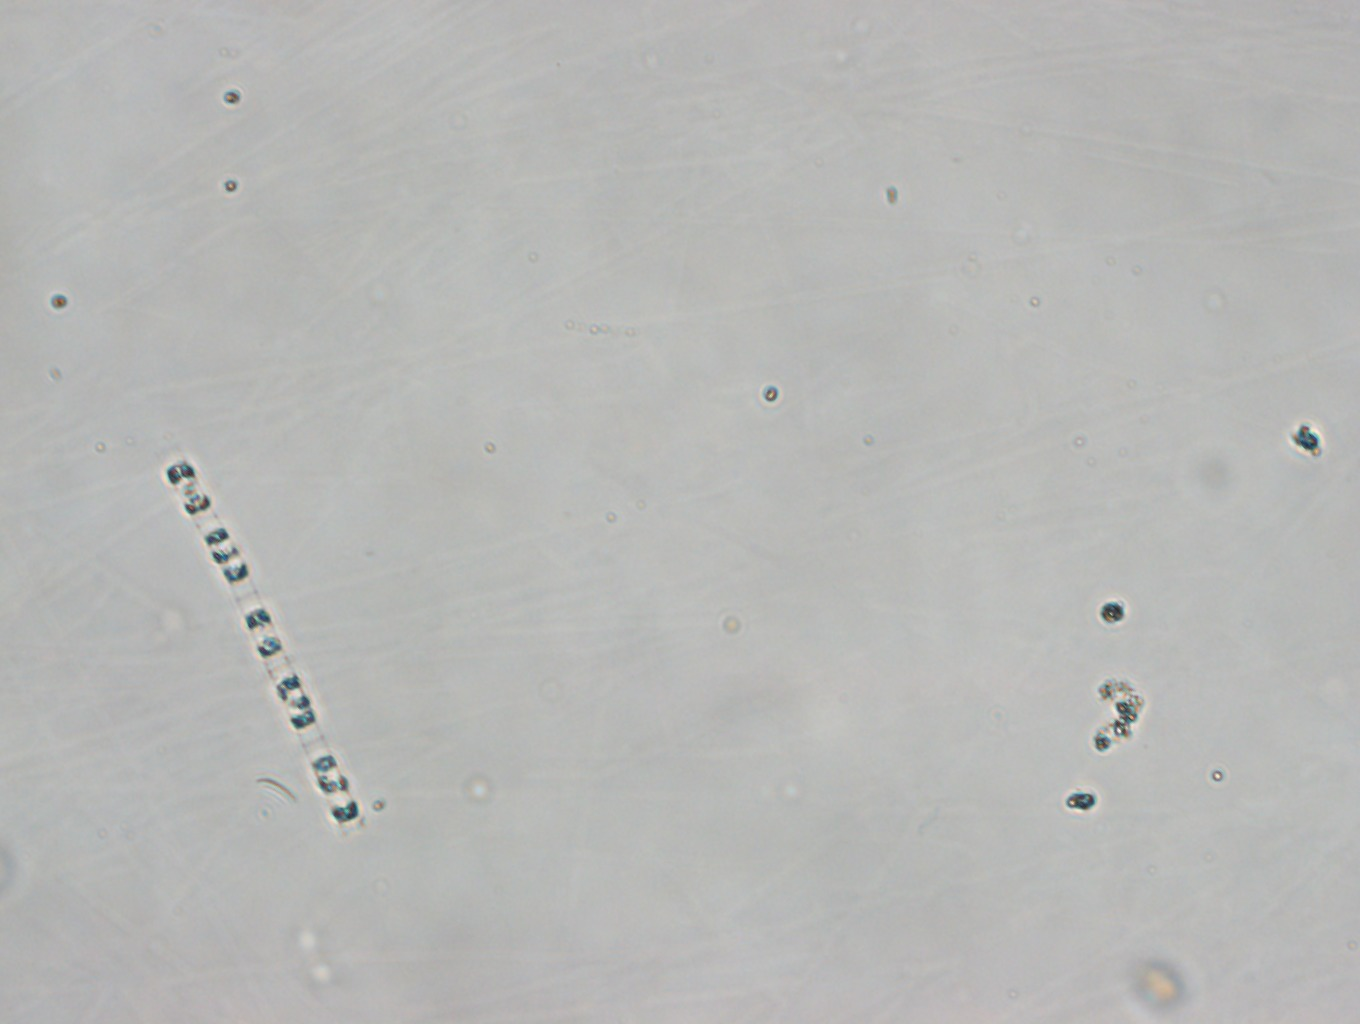skeletonema: (155, 447, 366, 831)
